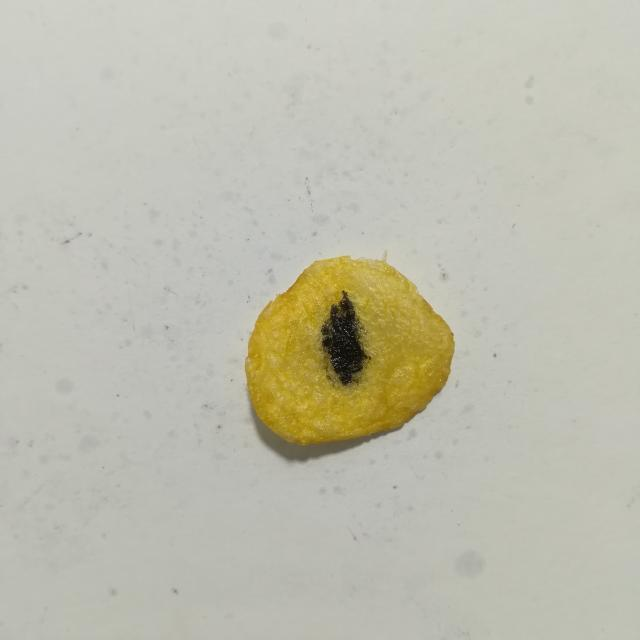chip: (245, 256, 454, 445)
damaged: (321, 291, 368, 385)
semi-damaged: (319, 313, 372, 390)
